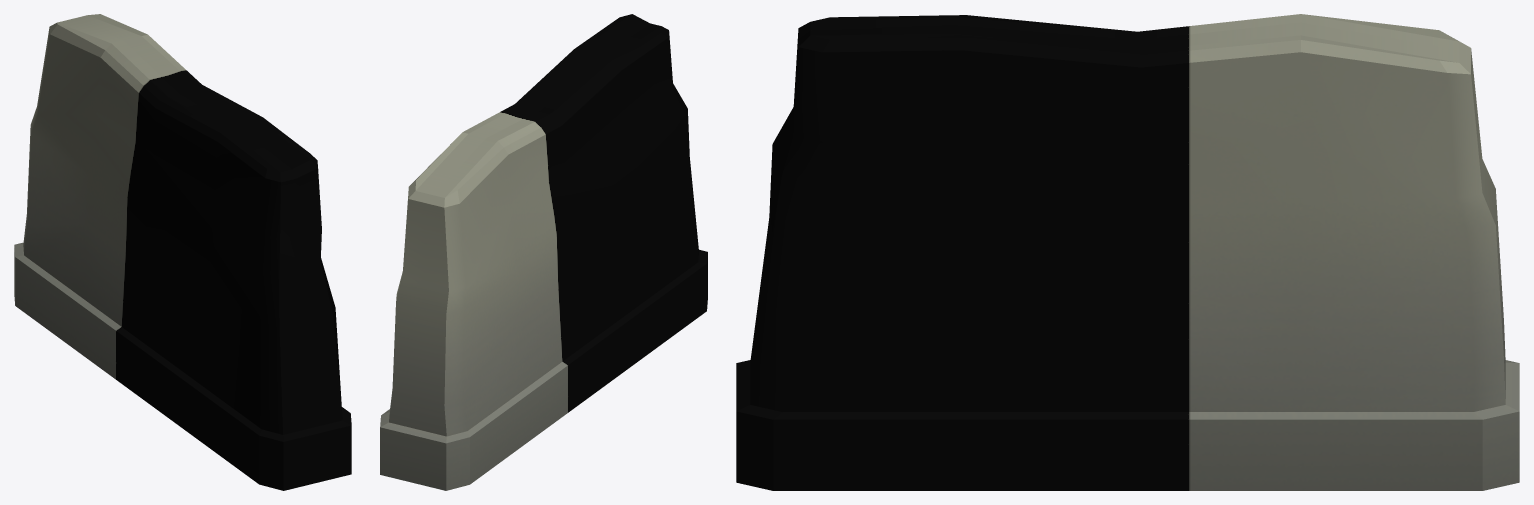
File: wall01.fbx
3 views of the same model, side by side, from view 1: azimuth 30°, elevation 25°; view 2: azimuth 150°, elevation 25°; view 3: azimuth 270°, elevation 25° (orthographic). The views are drawn at different scales.
Parts seen in each view (by area): view 1: wall01; view 2: wall01; view 3: wall01.
Part boxes in pixels (left/top/right/bottom): wall01: left=14, top=14, right=351, bottom=490; wall01: left=380, top=14, right=707, bottom=490; wall01: left=736, top=14, right=1519, bottom=490.
Size of the model in its own units: 1.34 by 4.25 by 6.83.
